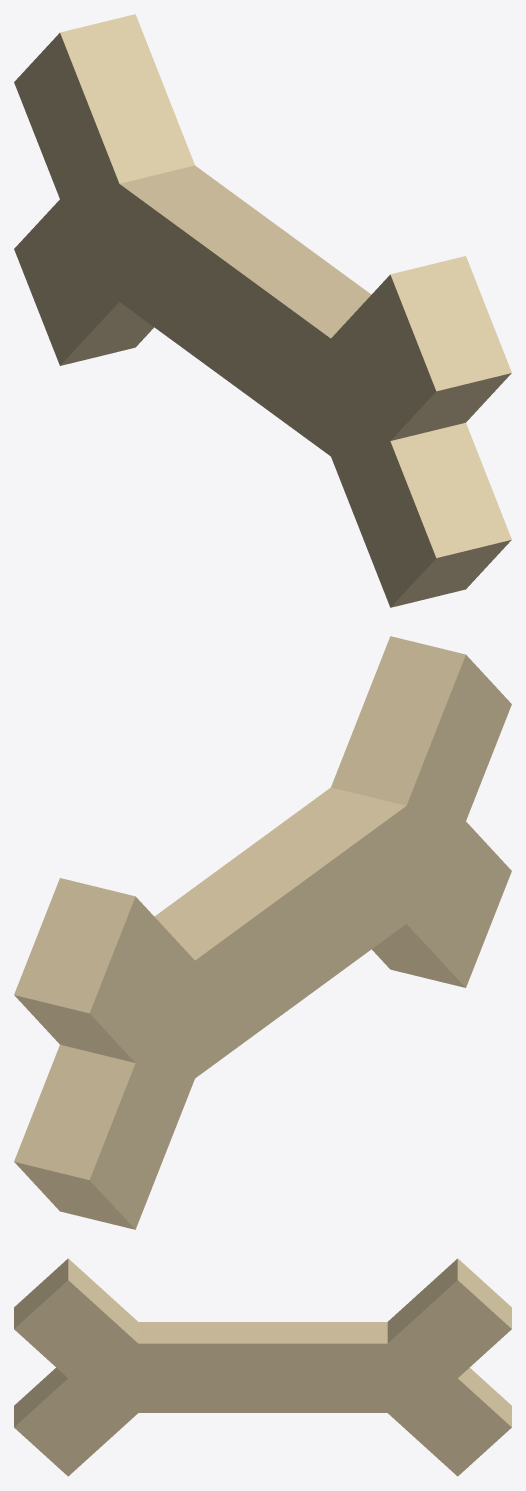
Rendered from Treat_Bone.fbx.
3 views of the same model, one above another, from view 1: azimuth 30°, elevation 25°; view 2: azimuth 150°, elevation 25°; view 3: azimuth 270°, elevation 25° (orthographic). The views are drawn at different scales.
Parts seen in each view (by area): view 1: boneEnd_1_geo, boneEnd_2_geo, boneMiddle_geo; view 2: boneEnd_2_geo, boneEnd_1_geo, boneMiddle_geo; view 3: boneMiddle_geo, boneEnd_1_geo, boneEnd_2_geo.
Boxes of the visible parts, x1,y1,x2,y2 form: boneEnd_1_geo: (298,256,511,607); boneEnd_2_geo: (14,14,194,365); boneMiddle_geo: (119,165,371,456); boneEnd_2_geo: (14,878,227,1229); boneEnd_1_geo: (331,636,511,987); boneMiddle_geo: (154,787,406,1078); boneMiddle_geo: (138,1322,387,1412); boneEnd_1_geo: (14,1258,176,1476); boneEnd_2_geo: (349,1258,511,1476).
Bounding box in the file's own units: 0.671 × 2.83 × 6.49.
